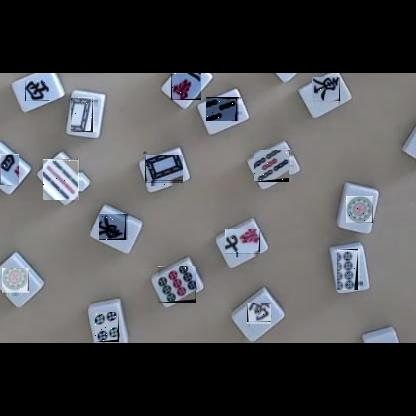1p: (346, 196, 373, 223), (2, 269, 29, 296)
1z: (100, 214, 131, 240), (312, 78, 340, 106)
2m: (171, 73, 201, 100)
2z: (247, 304, 271, 327)
3s: (207, 97, 242, 121)
3z: (25, 79, 49, 101)
4m: (0, 154, 19, 185)
4p: (95, 312, 119, 342)
5s: (255, 150, 294, 182)
5z: (145, 156, 183, 186), (72, 97, 98, 132)
7m: (225, 230, 260, 257)
8p: (338, 249, 363, 290)
9p: (158, 266, 196, 303)
9s: (44, 159, 83, 200)
